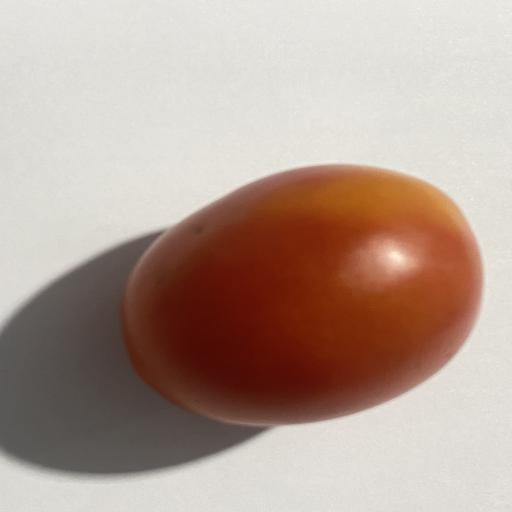ripe: (123, 166, 482, 426)
